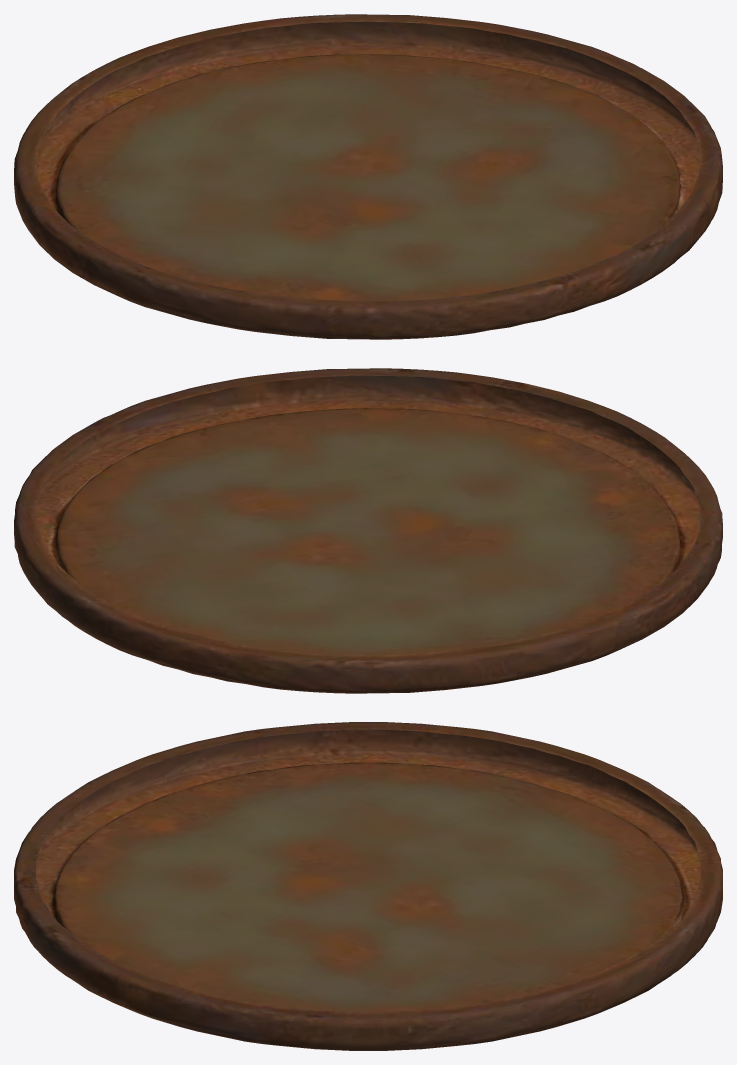
The model's file is oil_drum.glb.
3 renders of one model, top to bottom at view 1: azimuth 30°, elevation 25°; view 2: azimuth 150°, elevation 25°; view 3: azimuth 270°, elevation 25°, orthographic.
Parts seen in each view (by area): view 1: tripo_node_bcdaff9d-923a-4ef9-a1cc-c6f8a9605504; view 2: tripo_node_bcdaff9d-923a-4ef9-a1cc-c6f8a9605504; view 3: tripo_node_bcdaff9d-923a-4ef9-a1cc-c6f8a9605504.
Boxes of the visible parts, <box> form: tripo_node_bcdaff9d-923a-4ef9-a1cc-c6f8a9605504: <box>14,14,722,339</box>; tripo_node_bcdaff9d-923a-4ef9-a1cc-c6f8a9605504: <box>14,368,722,693</box>; tripo_node_bcdaff9d-923a-4ef9-a1cc-c6f8a9605504: <box>14,722,722,1050</box>.
Bounding box in the file's own units: 0.6947 × 0.0333 × 0.6908.
Materials: 1 (1 with a texture image).
